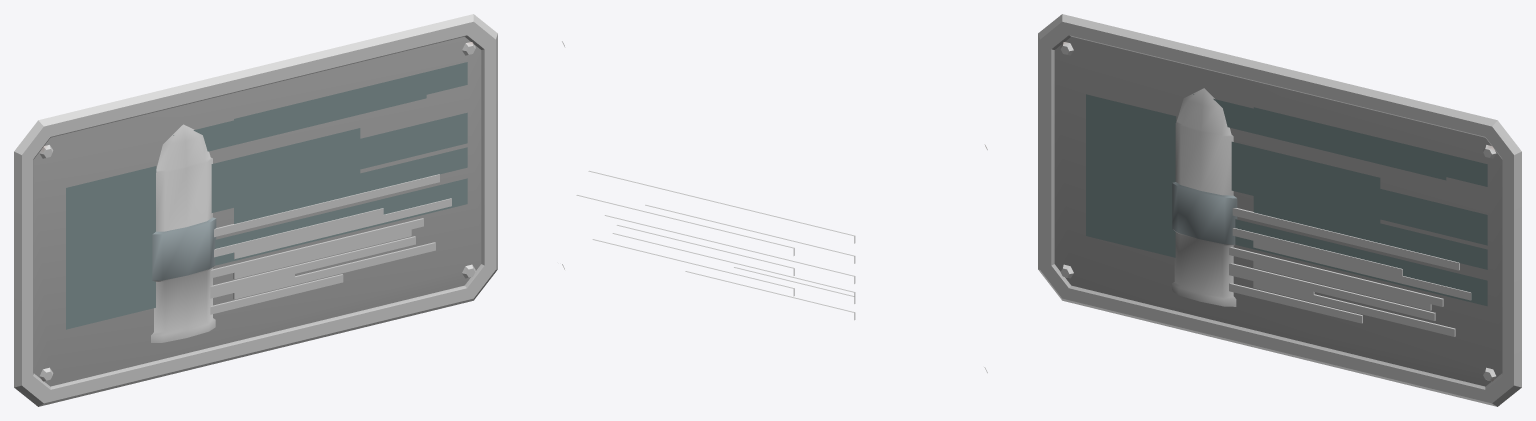
The model's file is rd_plate.glb.
The picture shows the model from 3 angles, left to right: view 1: azimuth 30°, elevation 25°; view 2: azimuth 150°, elevation 25°; view 3: azimuth 330°, elevation 25°; orthographic projection.
Parts seen in each view (by area): view 1: plate_line, plate_proving, plate_service; view 2: plate_service, plate_proving, plate_line; view 3: plate_line, plate_proving, plate_service.
Boxes of the visible parts, x1,y1,x2,y2 form: plate_line: (14,14,497,406); plate_proving: (151,62,467,342); plate_service: (210,119,467,298); plate_service: (588,170,855,303); plate_proving: (576,195,794,296); plate_line: (562,41,987,373); plate_line: (1038,14,1521,406); plate_proving: (1172,88,1487,336); plate_service: (1229,157,1487,306).
Size of the model in its own units: 0.6001 by 0.3398 by 0.0117.
